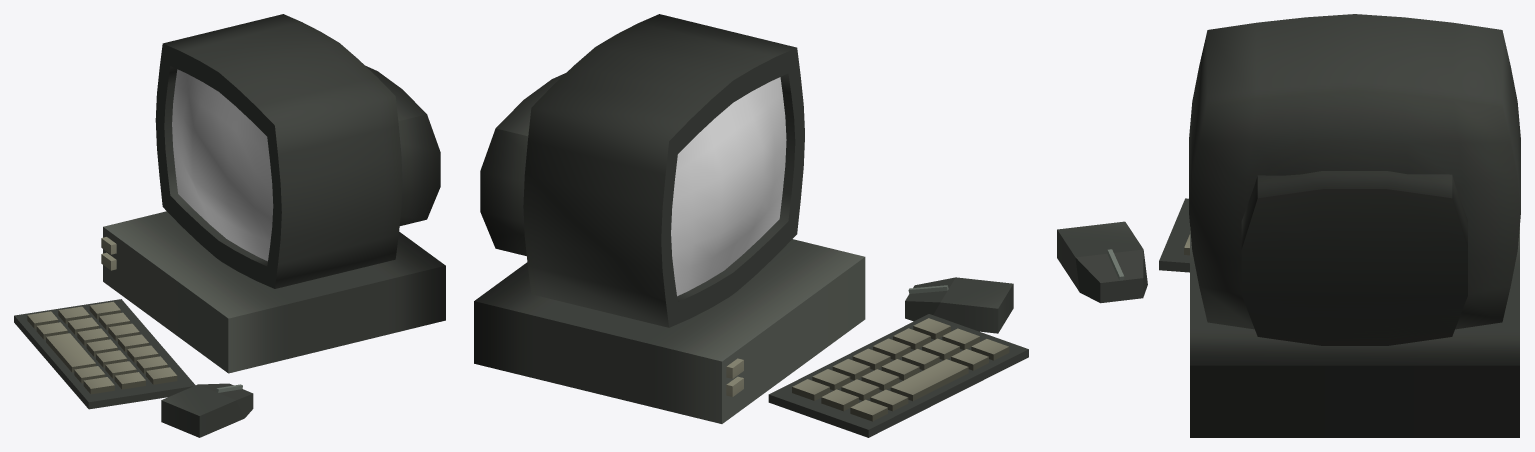
3 renders of one model, left to right at view 1: azimuth 30°, elevation 25°; view 2: azimuth 150°, elevation 25°; view 3: azimuth 270°, elevation 25°, orthographic. The views are drawn at different scales.
Parts seen in each view (by area): view 1: pc, pc.002, pc.010, pc.008, pc.001, pc.009; view 2: pc, pc.002, pc.010, pc.001, pc.008, pc.009; view 3: pc, pc.001, pc.002, pc.009, pc.008.
Part boxes in pixels (box(x1,y1,x2,y2)): pc: box(155, 14, 402, 288); pc.002: box(103, 211, 445, 373); pc.010: box(27, 301, 177, 394); pc.008: box(14, 299, 195, 409); pc.001: box(365, 65, 440, 225); pc.009: box(161, 383, 253, 437); pc: box(523, 14, 804, 327); pc.002: box(474, 239, 865, 423); pc.010: box(792, 318, 1009, 421); pc.001: box(480, 73, 565, 255); pc.008: box(768, 314, 1028, 437); pc.009: box(905, 277, 1013, 333); pc: box(1189, 14, 1520, 329); pc.001: box(1241, 171, 1467, 345); pc.002: box(1190, 227, 1519, 437); pc.009: box(1057, 221, 1147, 303); pc.008: box(1159, 198, 1189, 272).
Bounding box in the file's own units: 86.34 × 55.34 × 70.65.
